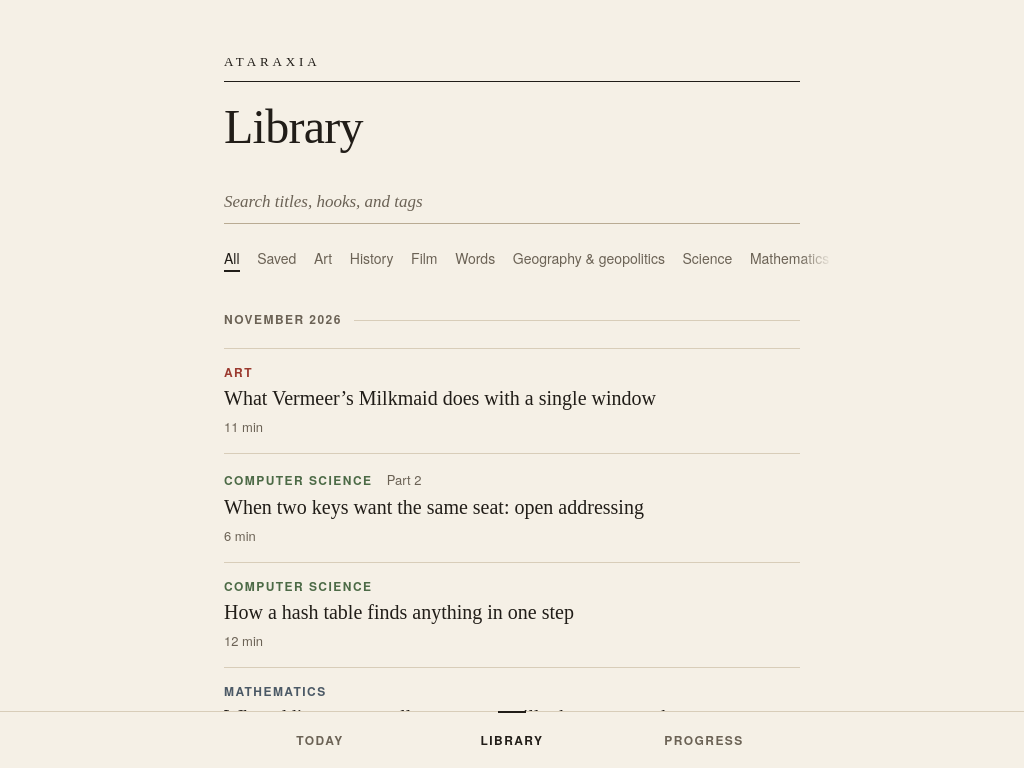
Test: Library › searches after typing pauses
Check: the heading "November 2026" is shown, box [224,310,342,328]
In the search field named "Search the library": (512, 202) [224,180,800,224], type "Rosetta"
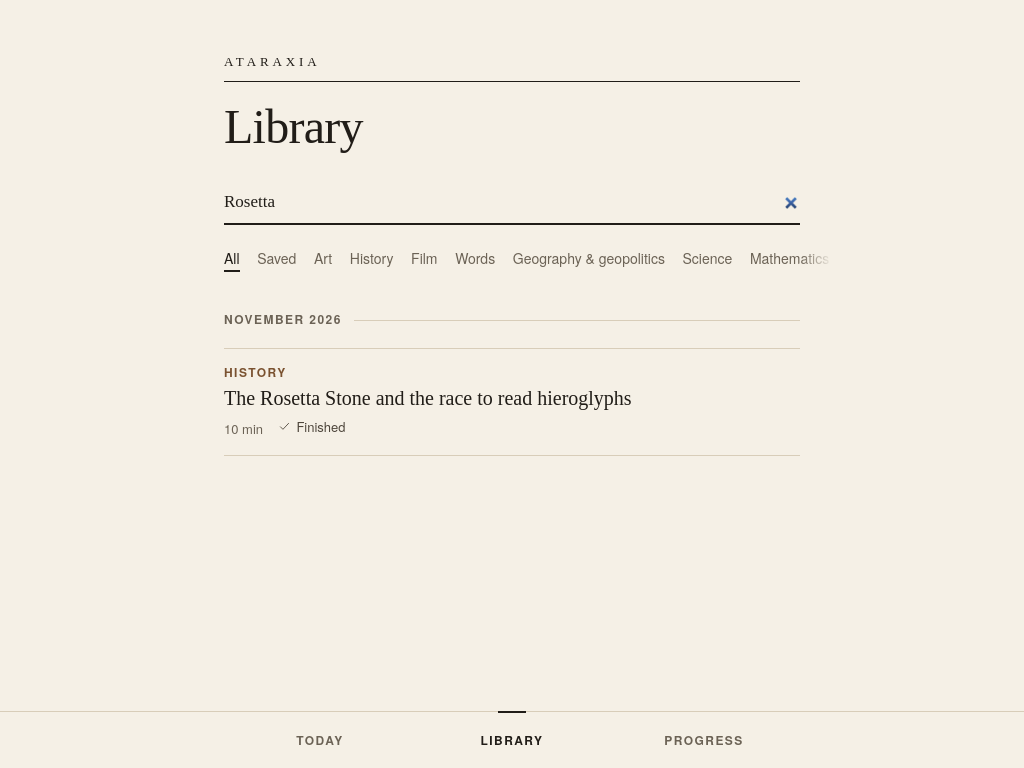
Check: the link "Rosetta Stone" is shown, box [224,363,632,438]
Check: the link "hash table" is gone
